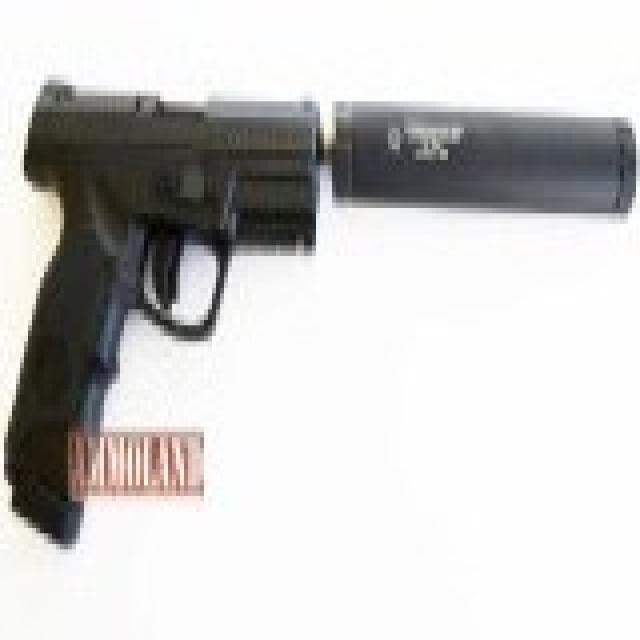Gun: (5, 58, 640, 557)
